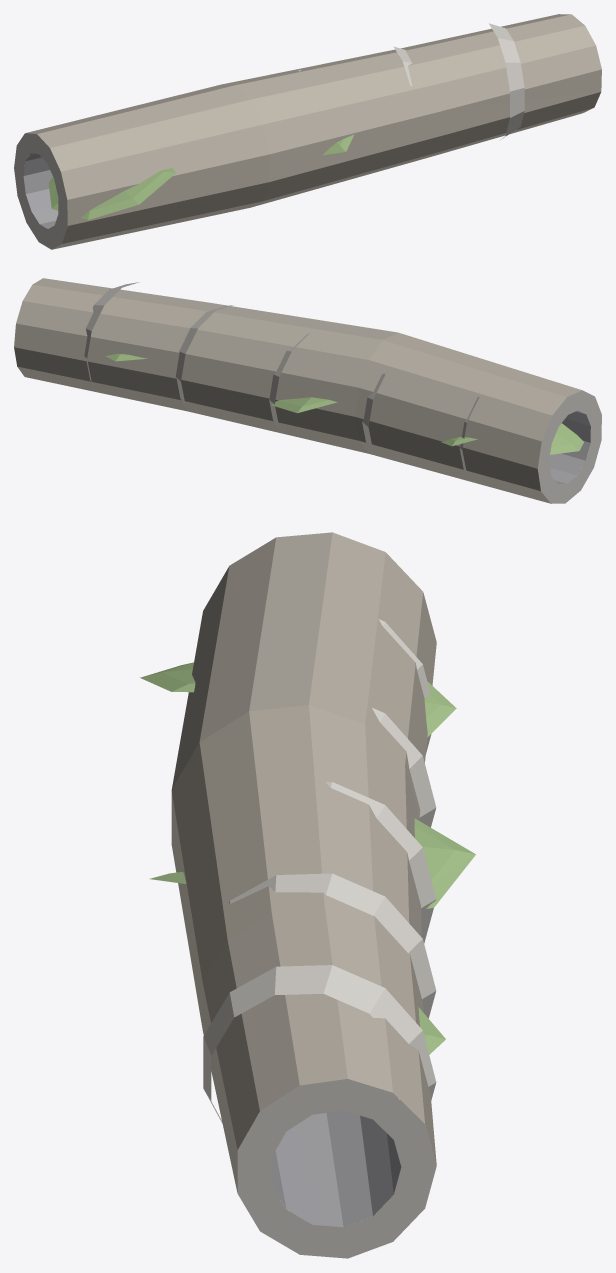
File: temperate-forest-ecology-rotting-log-hollow-a23fa081__3825.glb
The picture shows the model from 3 angles, top to bottom: view 1: azimuth 30°, elevation 25°; view 2: azimuth 150°, elevation 25°; view 3: azimuth 270°, elevation 25°; orthographic projection. The views are drawn at different scales.
Visible parts, largest first — view 1: rotting-log-hollow; view 2: rotting-log-hollow; view 3: rotting-log-hollow.
Part boxes in pixels (left/top/right/bottom): rotting-log-hollow: left=14, top=14, right=601, bottom=249; rotting-log-hollow: left=14, top=278, right=601, bottom=503; rotting-log-hollow: left=140, top=532, right=475, bottom=1258.
Size of the model in its own units: 3.54 by 0.72 by 0.963.
